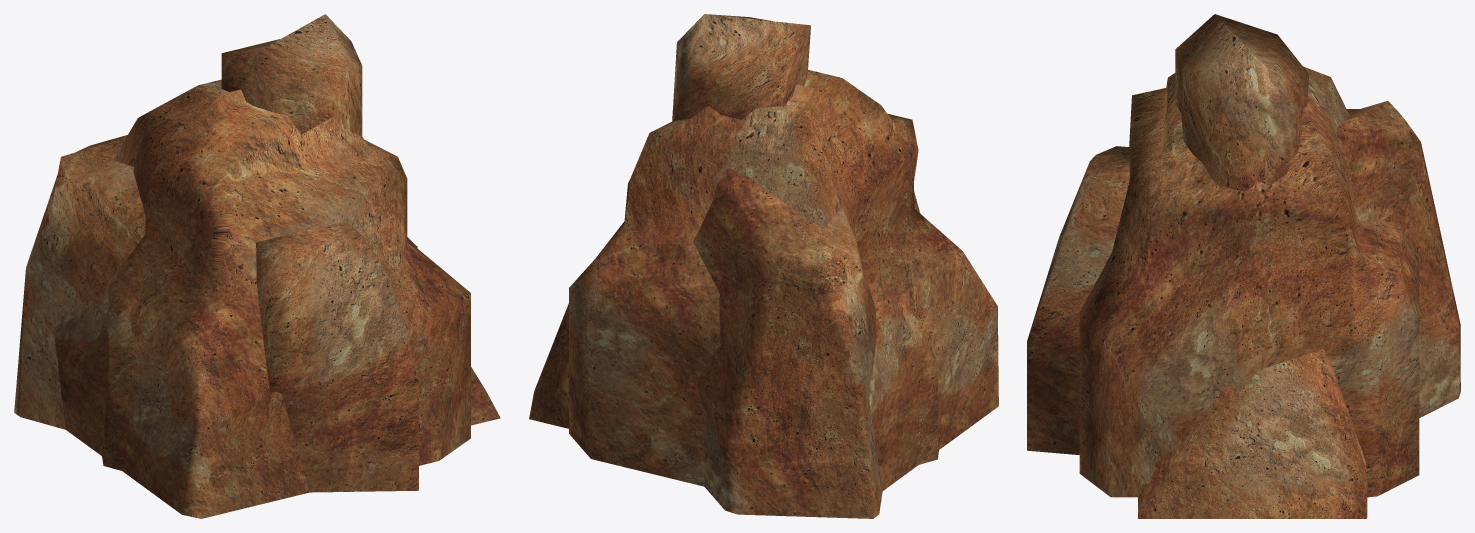
File: LargeRock_01.fbx
3 renders of one model, left to right at view 1: azimuth 30°, elevation 25°; view 2: azimuth 150°, elevation 25°; view 3: azimuth 270°, elevation 25°, orthographic. The views are drawn at different scales.
Visible parts, largest first — view 1: Large_Rock; view 2: Large_Rock; view 3: Large_Rock.
Boxes of the visible parts, left/top/right/bottom form: Large_Rock: left=14, top=14, right=500, bottom=518; Large_Rock: left=529, top=14, right=998, bottom=518; Large_Rock: left=1027, top=14, right=1460, bottom=518.
Bounding box in the file's own units: 3.78 × 3.94 × 3.83.
